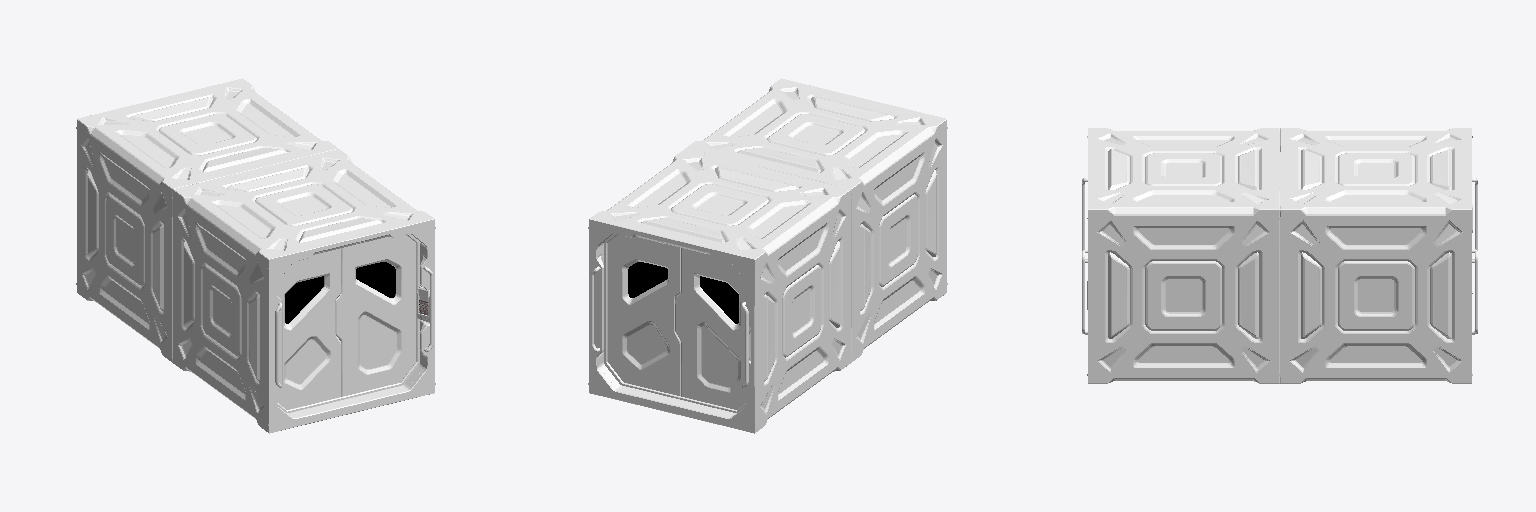
The picture shows the model from 3 angles: view 1: azimuth 30°, elevation 25°; view 2: azimuth 150°, elevation 25°; view 3: azimuth 270°, elevation 25°; orthographic projection.
Visible parts, largest first — view 1: Large_Grid_8390; view 2: Large_Grid_8390; view 3: Large_Grid_8390.
Boxes of the visible parts, <box> form: Large_Grid_8390: <box>76,78,435,433</box>; Large_Grid_8390: <box>588,78,947,433</box>; Large_Grid_8390: <box>1082,128,1477,383</box>.
Size of the model in its own units: 2.53 by 2.53 by 5.16.
Materials: 10 (1 with a texture image).